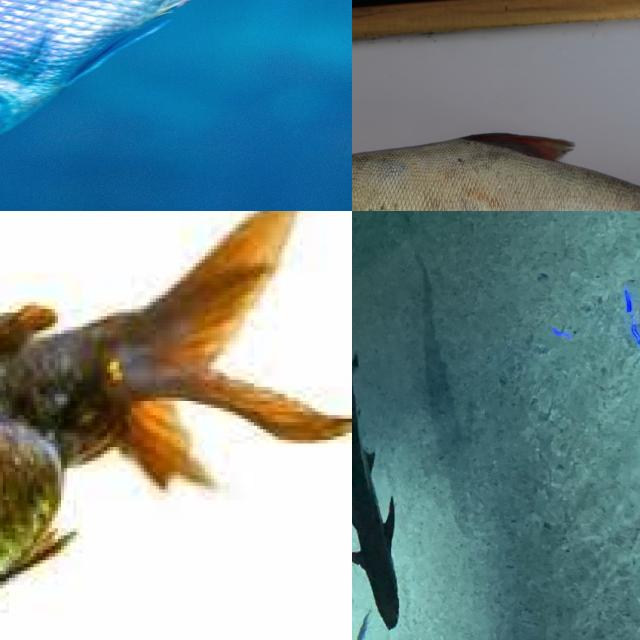fish: (0, 277, 349, 535), (0, 0, 352, 211), (352, 118, 640, 211), (352, 322, 412, 630)
